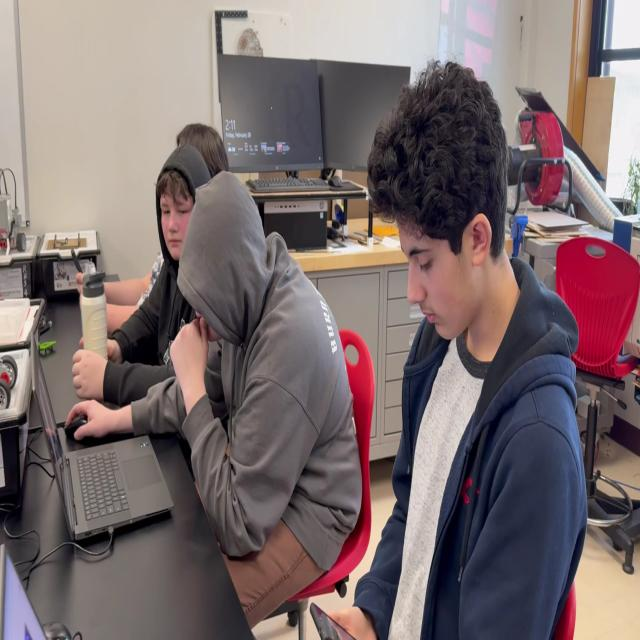pen: (309, 601, 364, 640), (71, 247, 91, 297)
